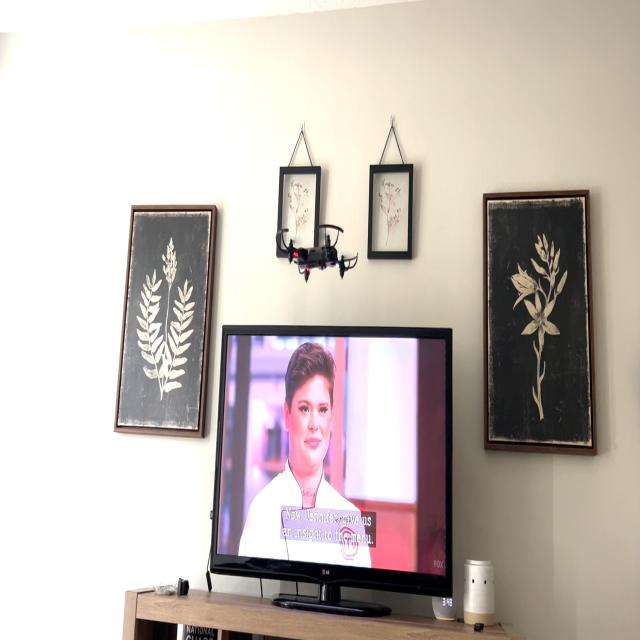drone: (266, 211, 362, 287)
